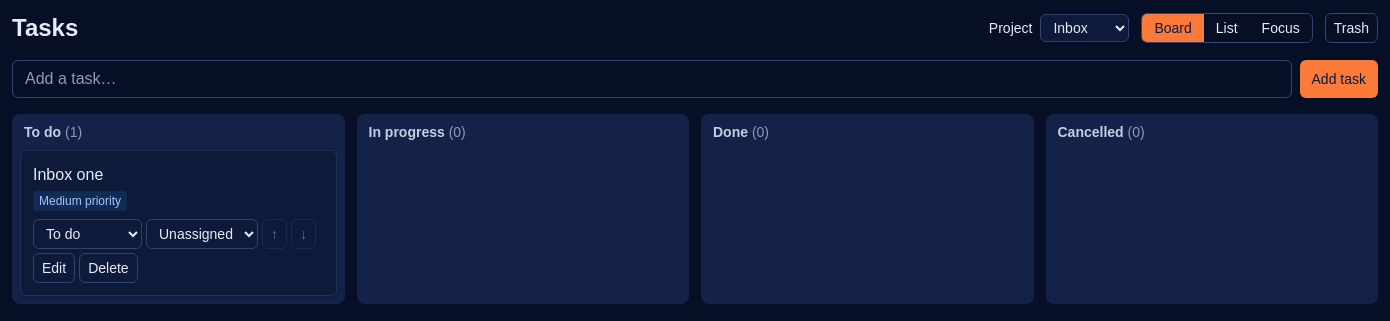
the board › switches to a project and shows only its tasks
Expected: the heading "Inbox one" is shown, [33,166,103,183]
Select "Website" in the dropdown labelled "Project" at (1085,28), box [1040,14,1129,42]
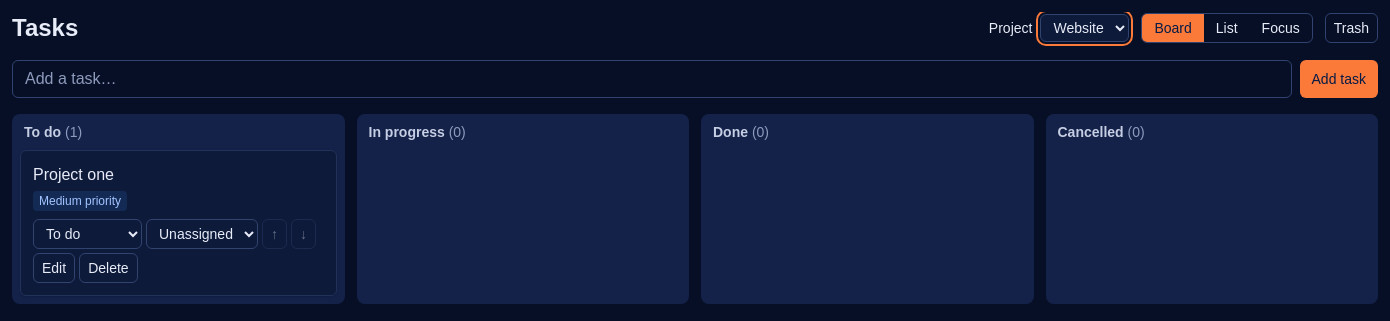
Expected: the heading "Project one" is shown, [33,166,114,183]
Expected: the heading "Inbox one" is gone
